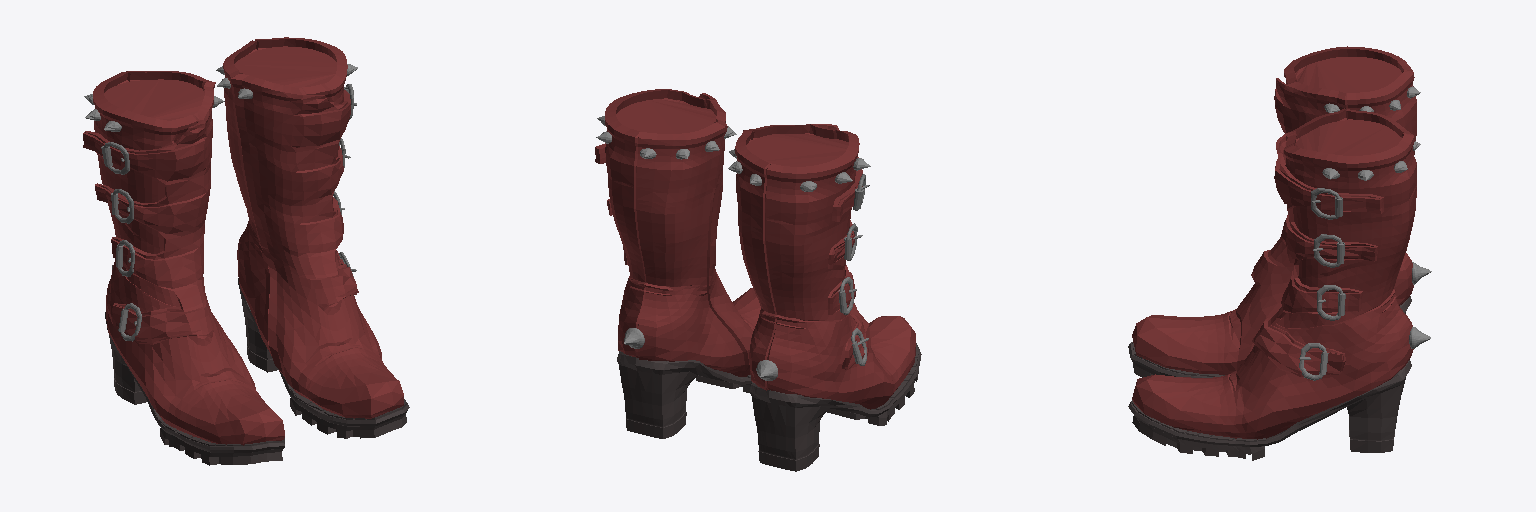
The model's file is boots_color_triangles.obj.
The picture shows the model from 3 angles: view 1: azimuth 30°, elevation 25°; view 2: azimuth 150°, elevation 25°; view 3: azimuth 270°, elevation 25°; orthographic projection.
Visible parts, largest first — view 1: LBoot boots_full boots_main_body full_boots boots_body left_boot, RBoot boots_full boots_main_body full_boots right_boot_body boot, RBoot boots_full feet right_foot full_boots soles polySurface45, LBoot boots_full feet left_foot full_boots polySurface44 soles, full_boots boots_body left_boot_body1, full_boots right_boot_body boots_body, RBoot boots_full boots_main_body full_boots buckles polySurface1; view 2: RBoot boots_full boots_main_body full_boots right_boot_body boot, LBoot boots_full boots_main_body full_boots boots_body left_boot, RBoot boots_full feet right_foot full_boots soles polySurface45, LBoot boots_full feet left_foot full_boots polySurface44 soles, full_boots boots_body left_boot_body1, full_boots right_boot_body boots_body, RBoot boots_full boots_main_body full_boots buckles polySurface1; view 3: LBoot boots_full boots_main_body full_boots boots_body left_boot, RBoot boots_full boots_main_body full_boots right_boot_body boot, LBoot boots_full feet left_foot full_boots polySurface44 soles, full_boots right_boot_body boots_body, full_boots boots_body left_boot_body1, LBoot boots_full boots_main_body full_boots buckles polySurface2, RBoot boots_full feet right_foot full_boots soles polySurface45, LBoot boots_full boots_main_body full_boots buckles polySurface3.
Boxes of the visible parts, box(x1,y1,x2,y2) form: LBoot boots_full boots_main_body full_boots boots_body left_boot: box(223, 37, 403, 418); RBoot boots_full boots_main_body full_boots right_boot_body boot: box(83, 71, 284, 445); RBoot boots_full feet right_foot full_boots soles polySurface45: box(105, 312, 284, 465); LBoot boots_full feet left_foot full_boots polySurface44 soles: box(238, 278, 409, 438); full_boots boots_body left_boot_body1: box(234, 46, 336, 87); full_boots right_boot_body boots_body: box(104, 79, 204, 120); RBoot boots_full boots_main_body full_boots buckles polySurface1: box(116, 244, 141, 341); RBoot boots_full boots_main_body full_boots right_boot_body boot: box(735, 124, 915, 409); LBoot boots_full boots_main_body full_boots boots_body left_boot: box(595, 89, 760, 376); RBoot boots_full feet right_foot full_boots soles polySurface45: box(750, 343, 921, 471); LBoot boots_full feet left_foot full_boots polySurface44 soles: box(617, 351, 751, 438); full_boots boots_body left_boot_body1: box(616, 98, 715, 133); full_boots right_boot_body boots_body: box(746, 133, 848, 166); RBoot boots_full boots_main_body full_boots buckles polySurface1: box(838, 289, 868, 365); LBoot boots_full boots_main_body full_boots boots_body left_boot: box(1132, 108, 1416, 439); RBoot boots_full boots_main_body full_boots right_boot_body boot: box(1132, 46, 1416, 374); LBoot boots_full feet left_foot full_boots polySurface44 soles: box(1128, 360, 1411, 460); full_boots right_boot_body boots_body: box(1295, 57, 1401, 92); full_boots boots_body left_boot_body1: box(1295, 118, 1401, 155); LBoot boots_full boots_main_body full_boots buckles polySurface2: box(1311, 188, 1344, 320); RBoot boots_full feet right_foot full_boots soles polySurface45: box(1128, 296, 1411, 377); LBoot boots_full boots_main_body full_boots buckles polySurface3: box(1299, 293, 1345, 380).
Bounding box in the file's own units: 29.4 × 33.71 × 30.06.